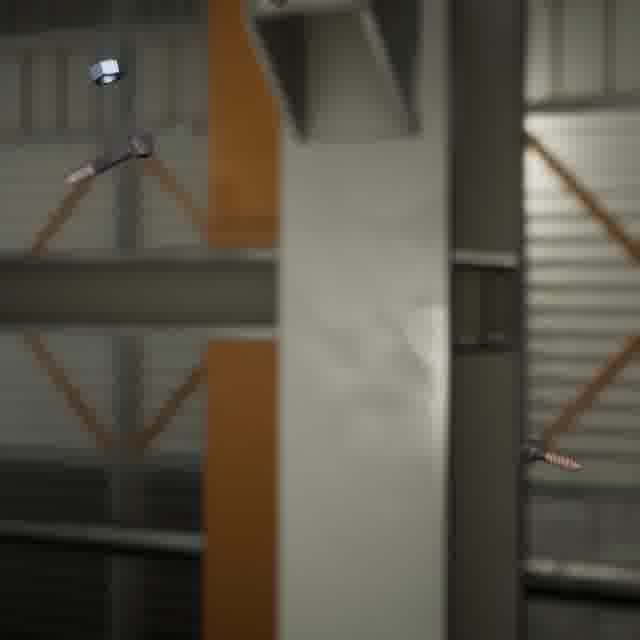bolt: (62, 125, 157, 189), (516, 433, 586, 475)
nut: (84, 55, 127, 89)
